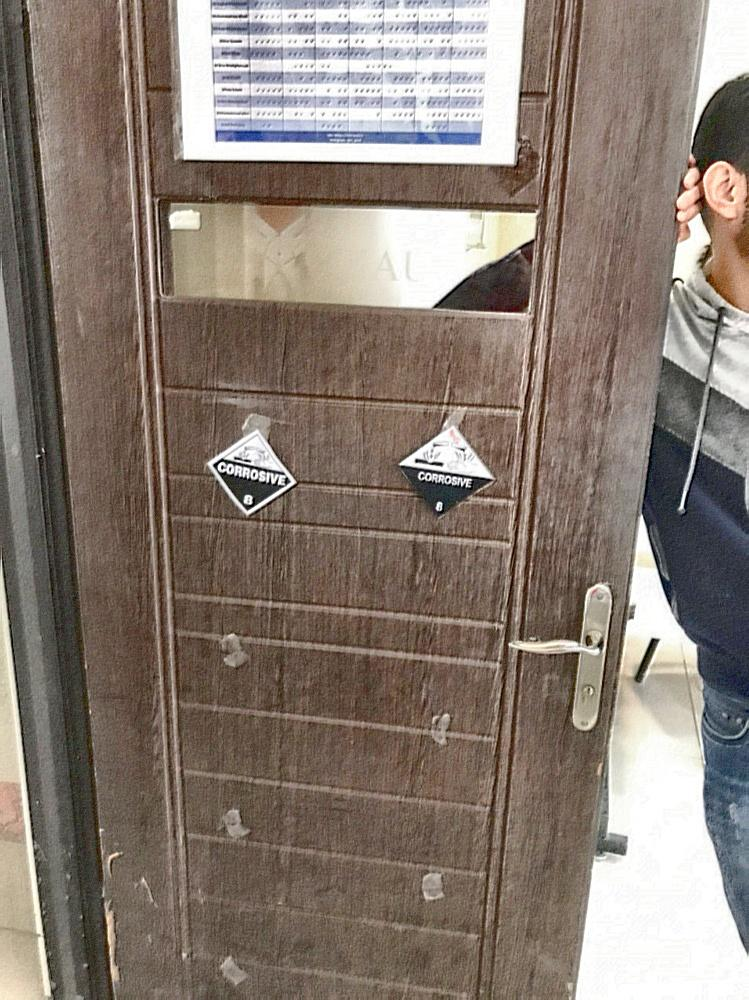corrosive: (395, 428, 495, 522), (204, 426, 299, 518)
